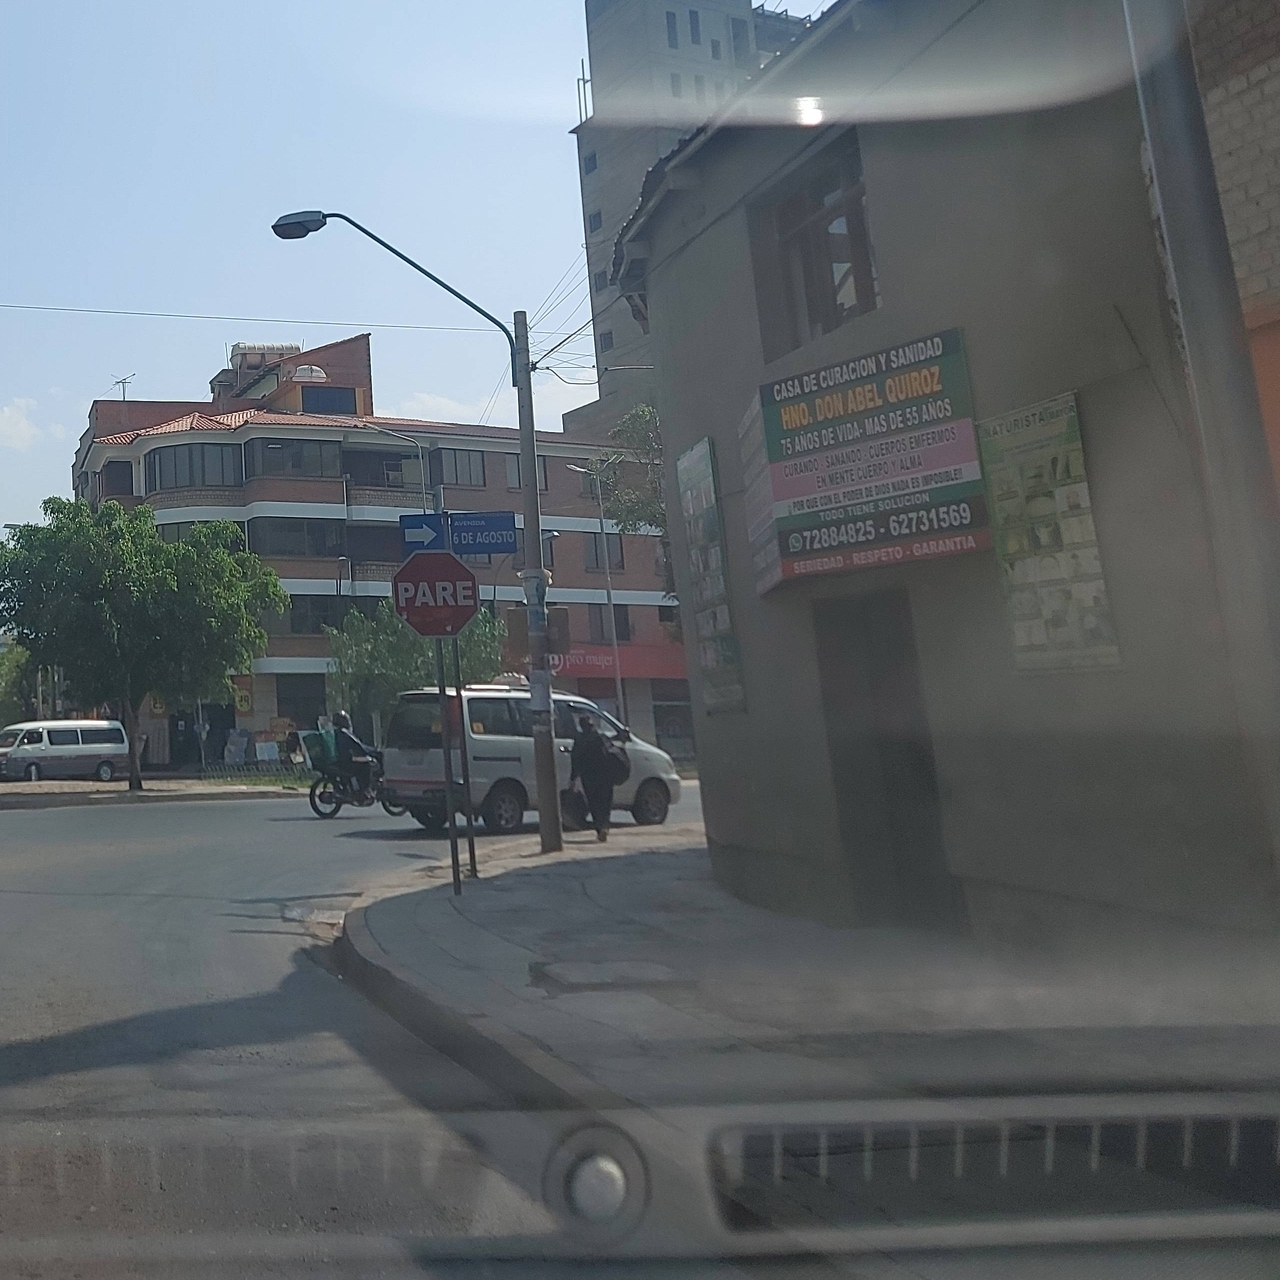pare: (392, 550, 482, 638)
